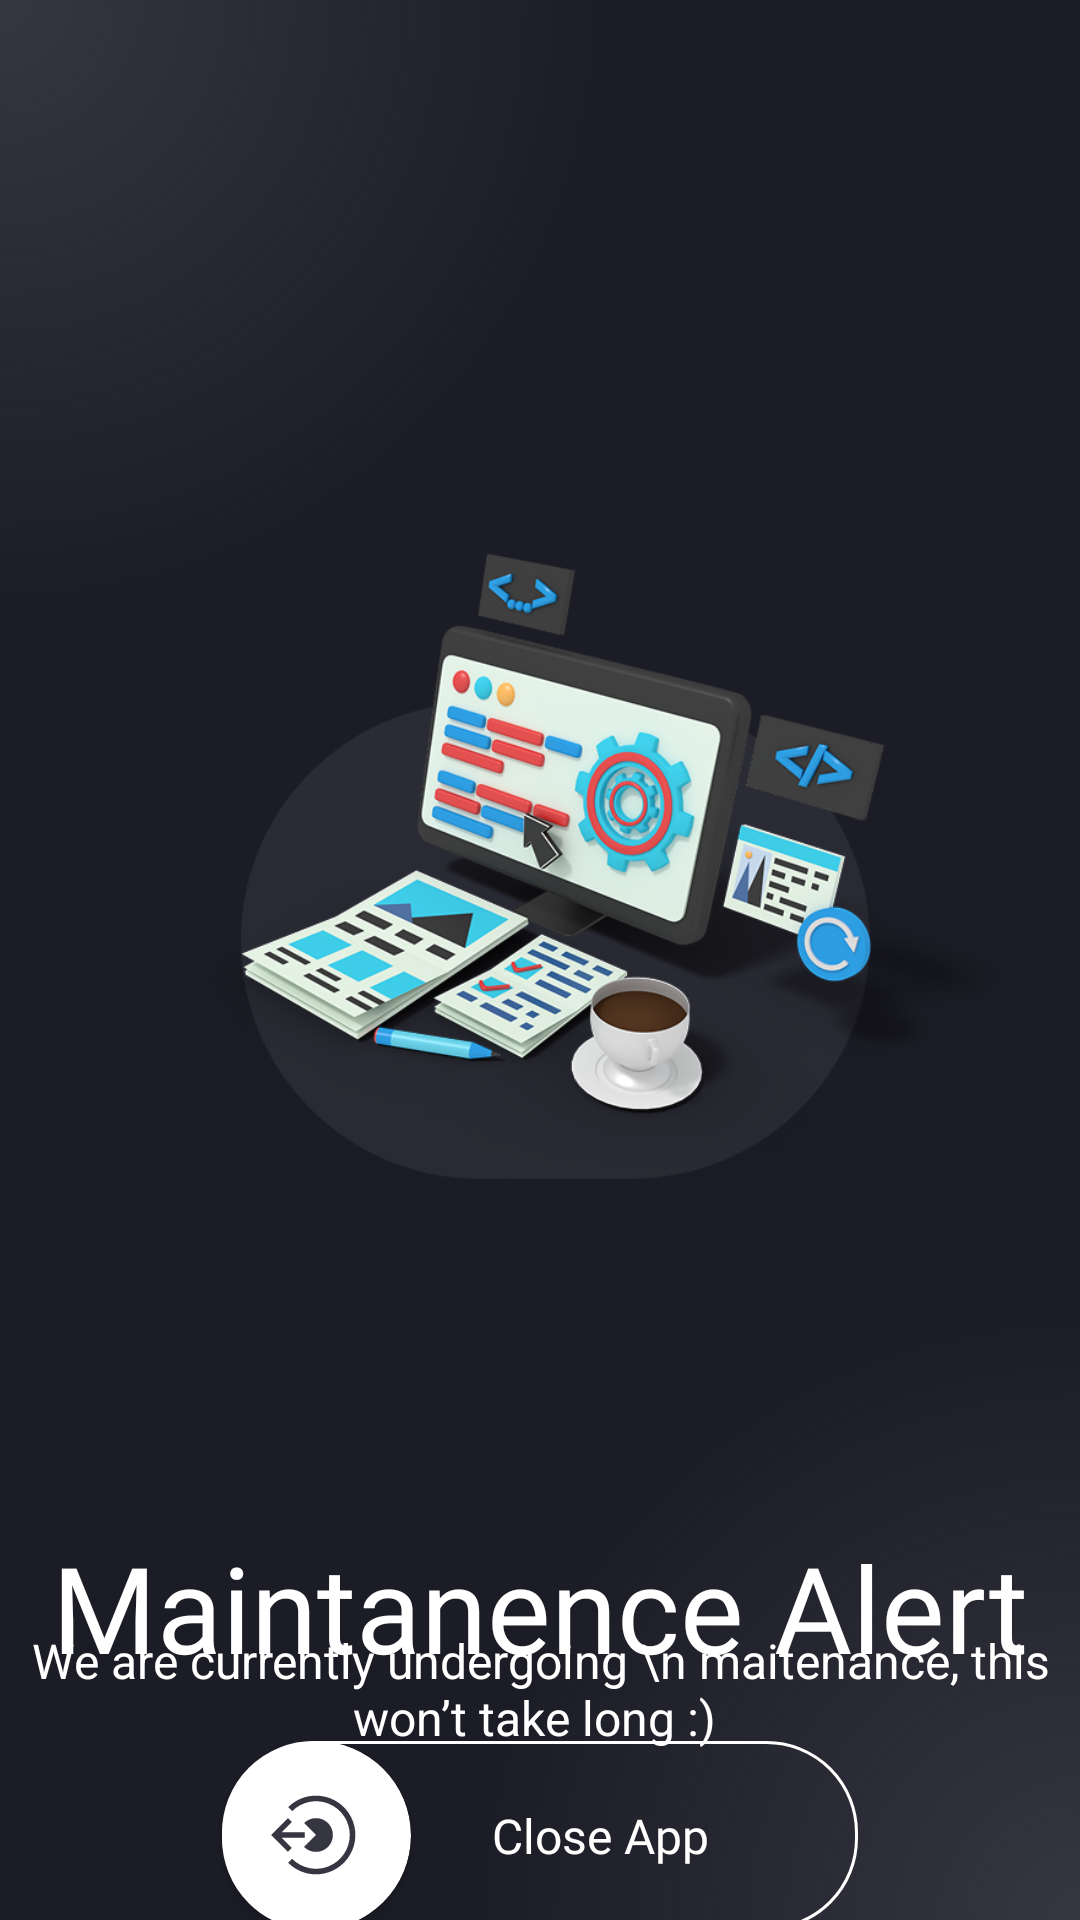

Screen size 1080px×1920px. Icon name, then its center in pixels as (x=x, y=y):
left back circle: (x=313, y=1835)
